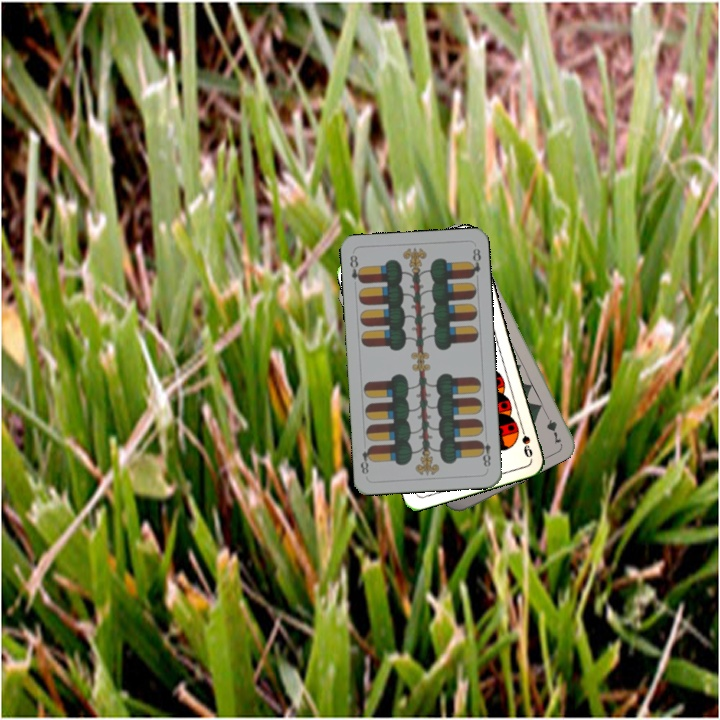E8: (346, 251, 365, 286), (475, 437, 493, 470)
G7: (540, 406, 564, 445)
S9: (516, 420, 535, 460)
